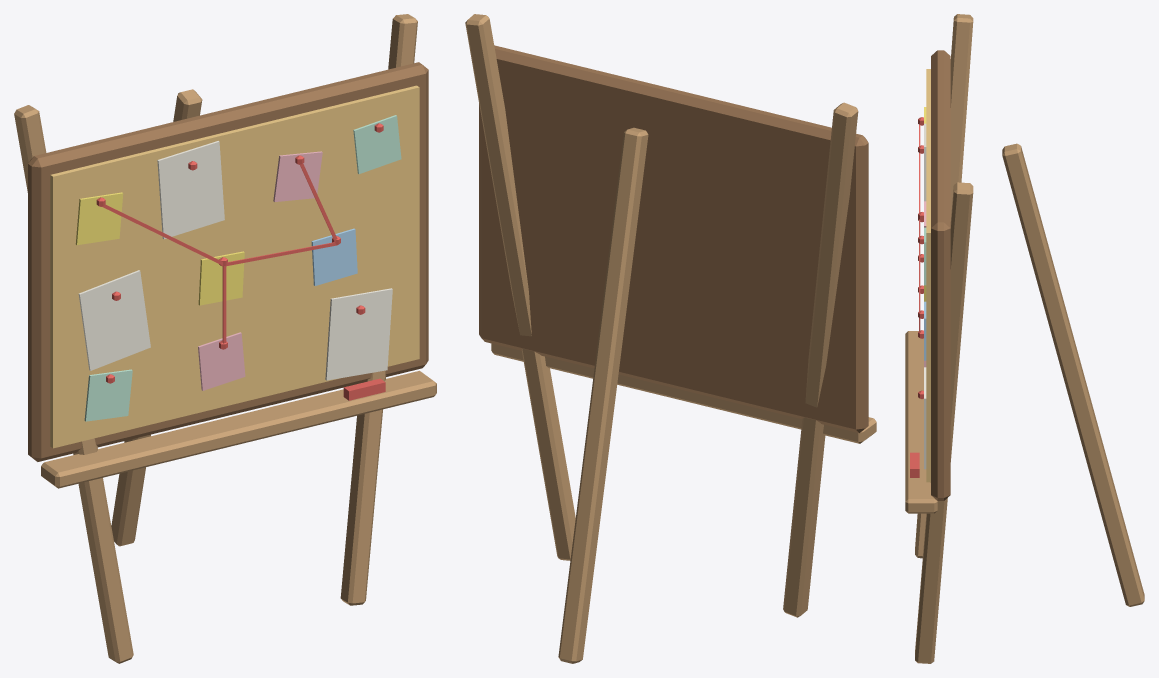
Rendered from prop_crisis_board_01.glb.
The picture shows the model from 3 angles, left to right: view 1: azimuth 30°, elevation 25°; view 2: azimuth 150°, elevation 25°; view 3: azimuth 270°, elevation 25°; orthographic projection. The views are drawn at different scales.
Parts seen in each view (by area): view 1: prop_crisis_board_01_body; view 2: prop_crisis_board_01_body; view 3: prop_crisis_board_01_body.
Part boxes in pixels (bbox=[...]): prop_crisis_board_01_body: bbox=[14, 14, 436, 663]; prop_crisis_board_01_body: bbox=[465, 14, 876, 663]; prop_crisis_board_01_body: bbox=[905, 14, 1144, 663].
Size of the model in its own units: 1.3 by 1.74 by 0.7402.
